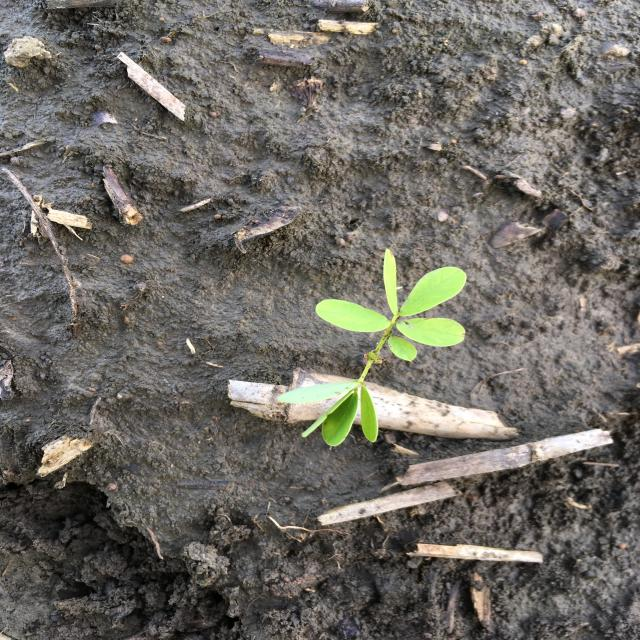Sicklepod: (274, 247, 468, 448)
